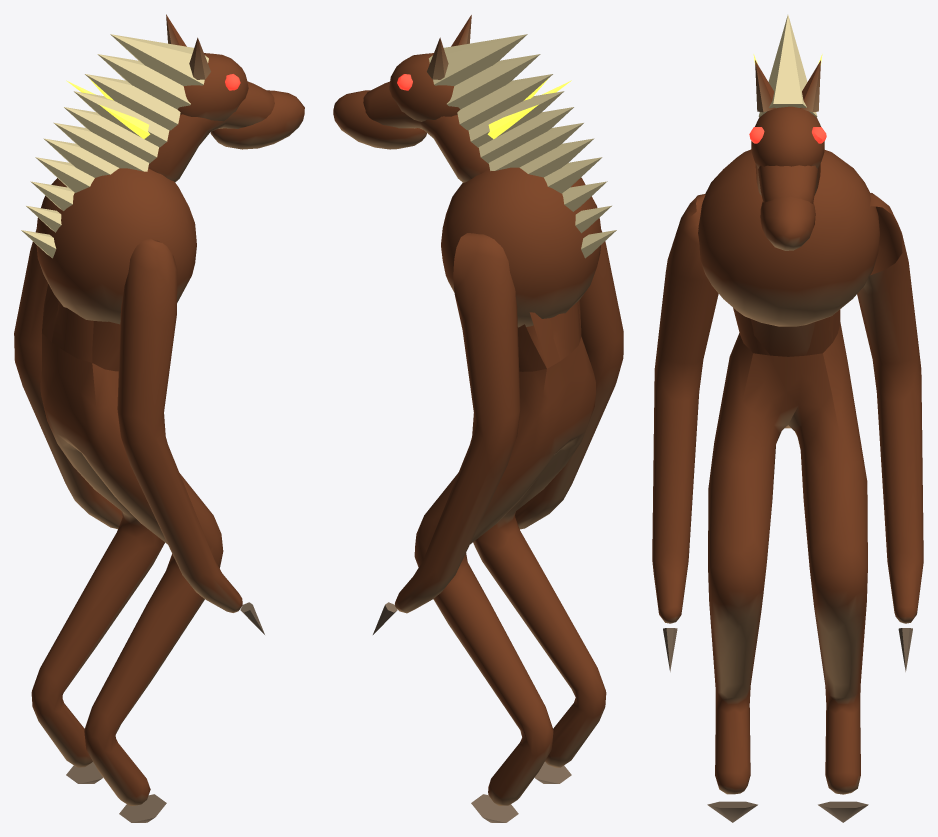
The model's file is tikbalang.glb.
3 renders of one model, left to right at view 1: azimuth 30°, elevation 25°; view 2: azimuth 150°, elevation 25°; view 3: azimuth 270°, elevation 25°, orthographic. The views are drawn at different scales.
Visible parts, largest first — view 1: tikbalang.001; view 2: tikbalang.001; view 3: tikbalang.001.
Part boxes in pixels (x1=…): tikbalang.001: x1=14, y1=14, x2=304, y2=822; tikbalang.001: x1=333, y1=15, x2=623, y2=822; tikbalang.001: x1=652, y1=15, x2=923, y2=822.
Size of the model in its own units: 0.9223 by 2.41 by 0.7374.
